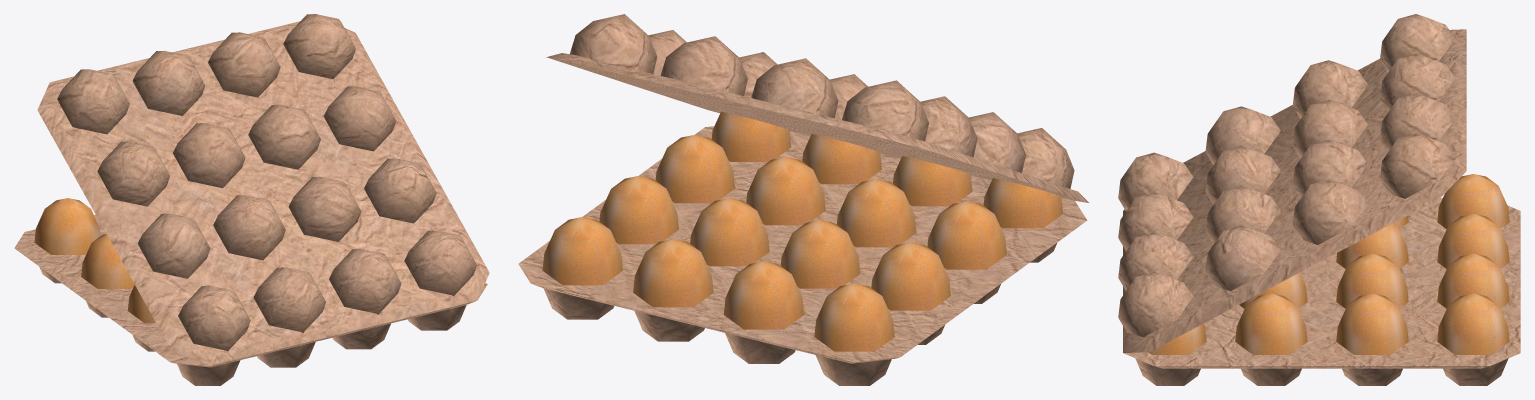
The model's file is Eggs_01.glb.
3 views of the same model, side by side, from view 1: azimuth 30°, elevation 25°; view 2: azimuth 150°, elevation 25°; view 3: azimuth 270°, elevation 25° (orthographic). The views are drawn at different scales.
Parts seen in each view (by area): view 1: Eggs_01; view 2: Eggs_01; view 3: Eggs_01.
Part boxes in pixels (left/top/right/bottom): Eggs_01: left=14, top=14, right=489, bottom=385; Eggs_01: left=518, top=14, right=1088, bottom=385; Eggs_01: left=1118, top=14, right=1520, bottom=385.
Bounding box in the file's own units: 0.3639 × 0.251 × 0.3684.
Materials: 2 (2 with a texture image).
